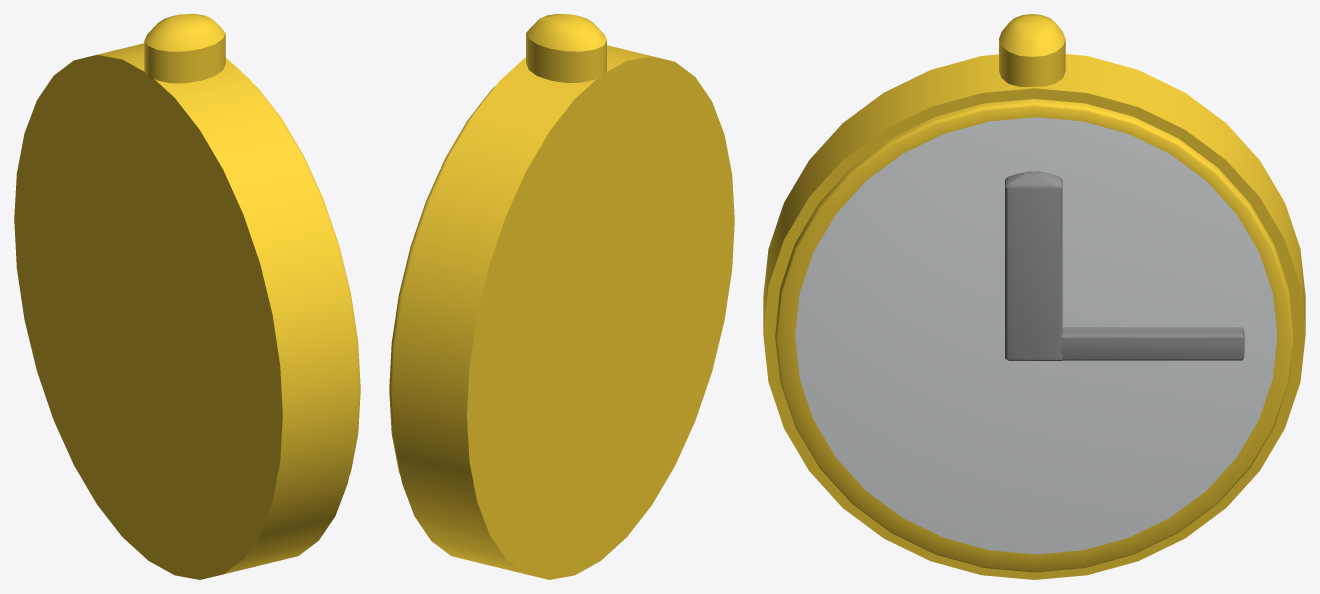
The model's file is clock.fbx.
The picture shows the model from 3 angles, left to right: view 1: azimuth 30°, elevation 25°; view 2: azimuth 150°, elevation 25°; view 3: azimuth 270°, elevation 25°; orthographic projection.
Parts seen in each view (by area): view 1: Circle.003; view 2: Circle.003; view 3: Circle.003.
Boxes of the visible parts, x1,y1,x2,y2 form: Circle.003: (14,14,360,579); Circle.003: (389,14,734,579); Circle.003: (763,14,1305,579).
Size of the model in its own units: 0.1416 by 0.6809 by 0.622.
